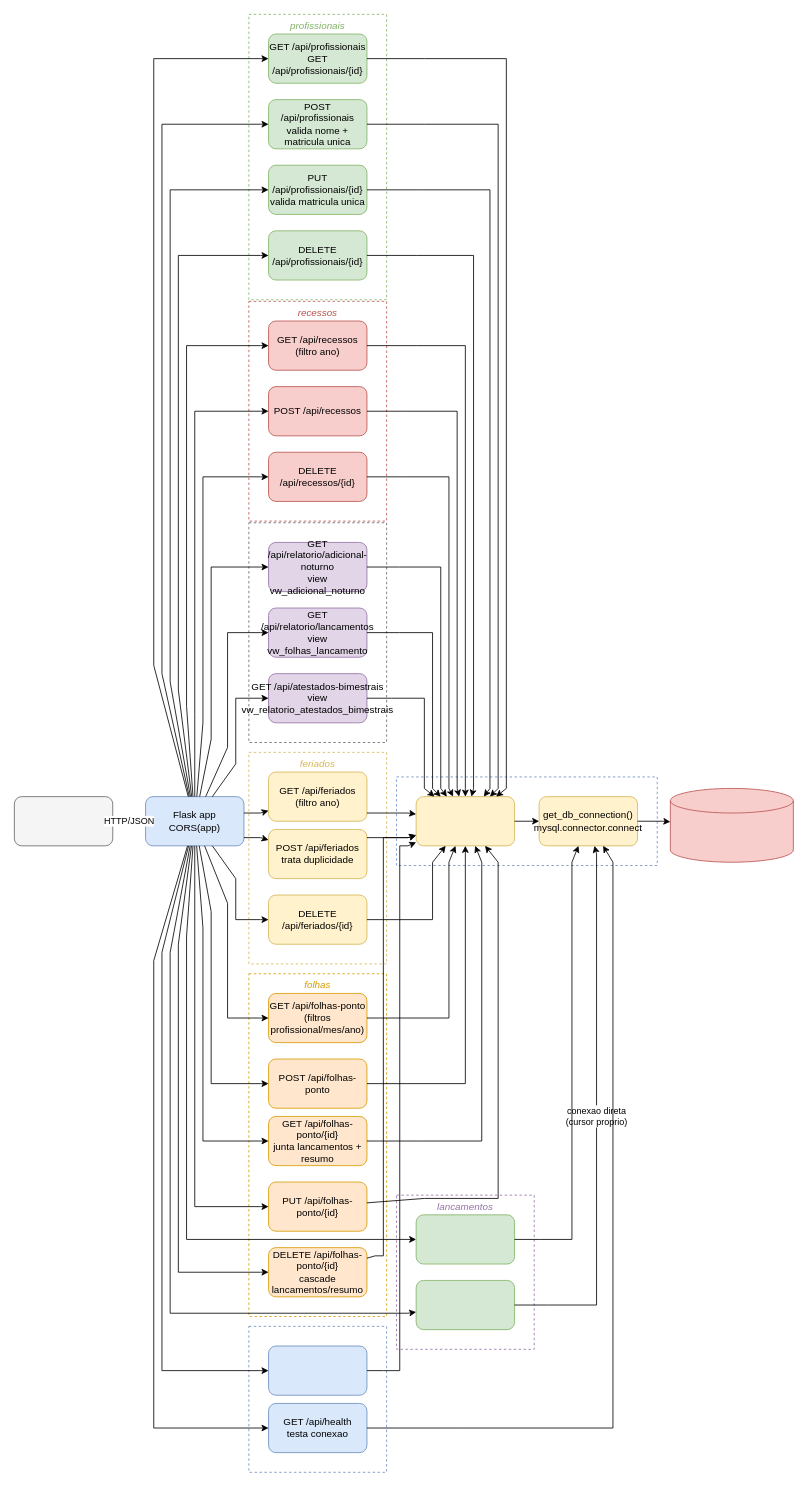
The diagram is 808 pixels wide and 1487 high, and some of its shapes have lost their labels. Here are the shapes that lost their labels. From the top down, the box of each, then its label:
(248, 522, 387, 743): relatorios
(14, 796, 113, 846): Cliente (frontend api.ts)
(415, 796, 515, 846): execute_query() cursor + serializa datetime/timedelta commit/rollback
(396, 776, 657, 866): core
(670, 788, 793, 862): MySQL folhaponto_db
(415, 1214, 515, 1264): POST /folhas-ponto/{id}/resumo DELETE + INSERT em lote
(415, 1280, 515, 1330): POST /folhas-ponto/{id}/lancamentos DELETE + INSERT em lote
(268, 1345, 367, 1395): GET /api/tipos-lancamento
(248, 1326, 387, 1472): misc
